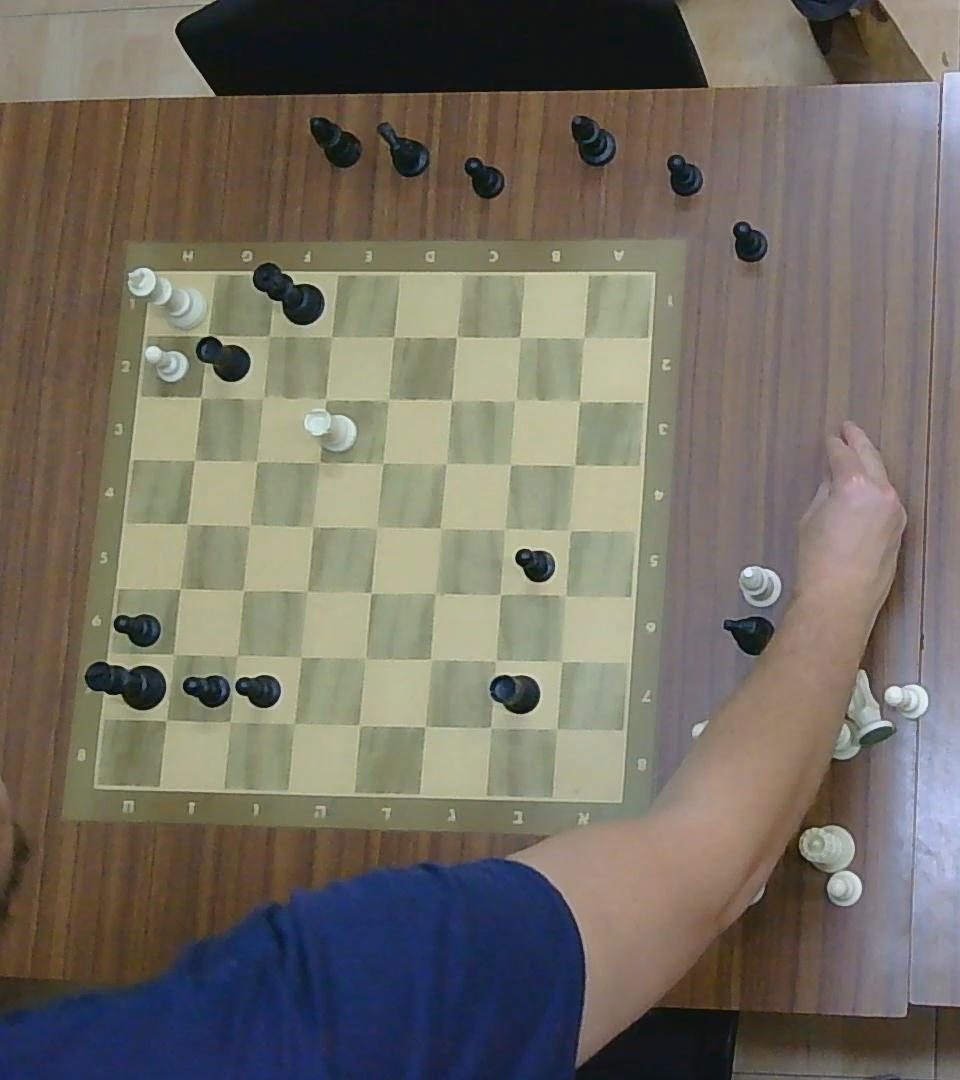xcorner: (190, 320, 218, 350), (566, 388, 593, 410), (244, 389, 276, 407), (554, 582, 575, 608), (376, 390, 400, 412), (219, 711, 240, 736), (189, 386, 214, 406), (348, 715, 370, 737), (319, 326, 342, 346), (544, 720, 567, 740), (281, 714, 305, 733), (483, 586, 508, 604), (311, 392, 338, 408), (438, 393, 465, 408), (241, 515, 262, 534), (446, 329, 469, 346), (164, 643, 184, 662), (510, 329, 532, 346), (551, 652, 570, 671), (481, 719, 500, 738), (494, 519, 514, 537), (426, 584, 444, 604), (291, 648, 311, 666), (362, 582, 379, 603), (169, 580, 188, 598), (382, 333, 408, 346), (224, 648, 246, 663), (372, 454, 390, 472), (423, 650, 441, 668), (158, 710, 175, 729), (416, 718, 433, 737), (303, 519, 326, 533), (306, 454, 326, 470), (432, 457, 453, 472), (572, 332, 594, 346), (178, 513, 196, 530), (485, 652, 503, 669), (236, 583, 253, 600), (430, 520, 449, 535), (498, 460, 518, 474), (297, 582, 314, 598), (506, 393, 524, 408), (247, 454, 265, 469), (369, 520, 388, 534), (356, 652, 376, 665), (266, 330, 280, 347), (184, 454, 199, 467), (567, 458, 579, 472), (563, 526, 575, 538)
